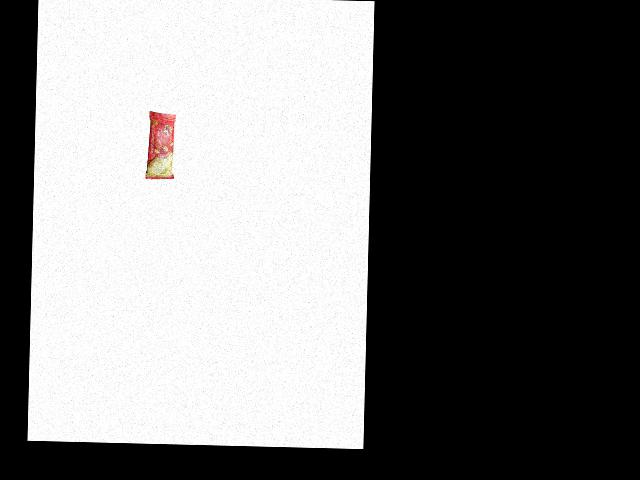chocolate: (141, 106, 177, 179)
